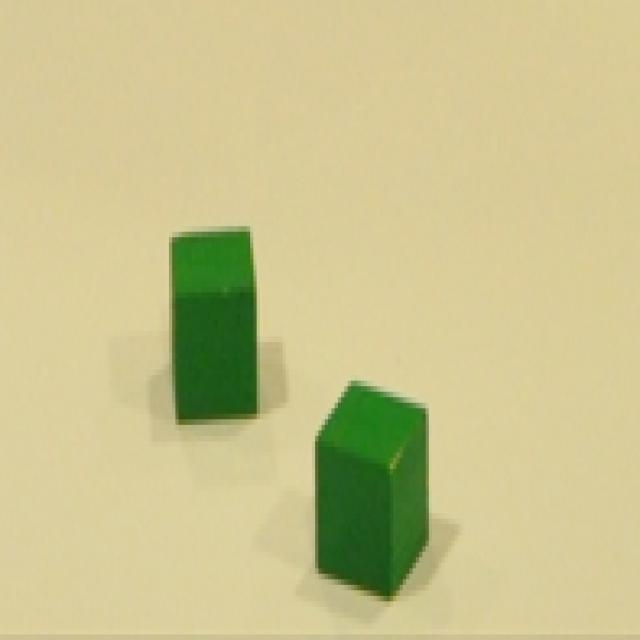green cube: (318, 379, 429, 600), (170, 229, 258, 421)
